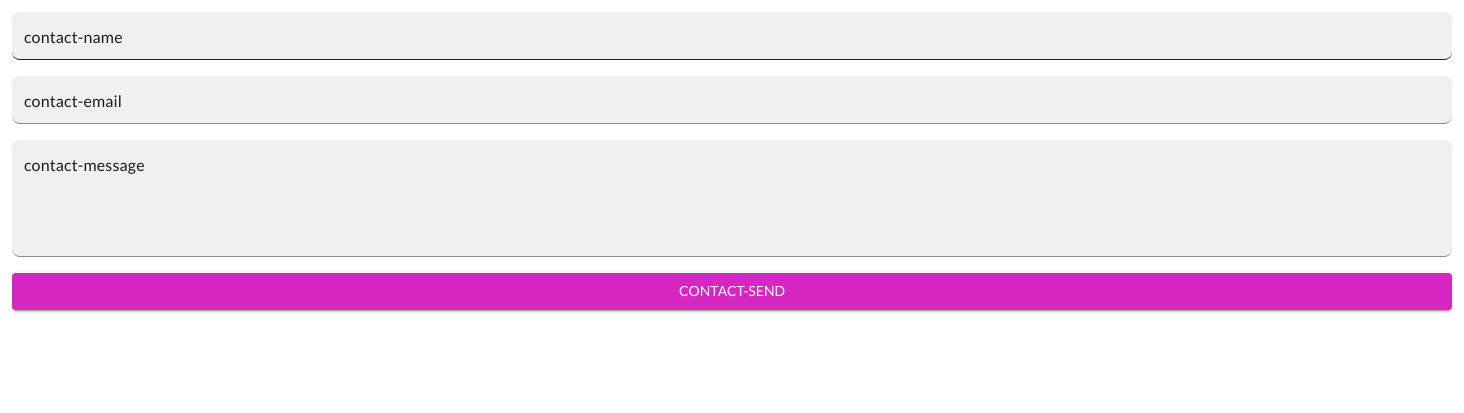
Test case: Contact Form tests › should Validate
The image size is (1464, 413).
Click the button with test id "contact-send": (732, 291) [12,273,1452,310]
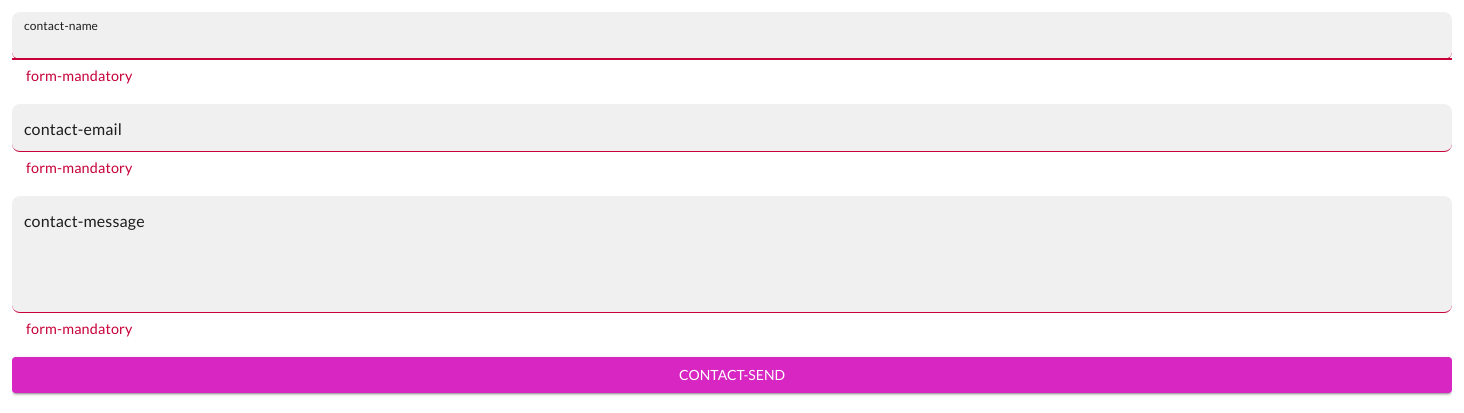
Check: the text "form-mandatory" is shown 3 times, box [26,67,133,84]; [26,159,133,176]; [26,320,133,337]
In the field with test id "contact-form-email": (732, 128) [12,104,1452,152], type "INVALID"
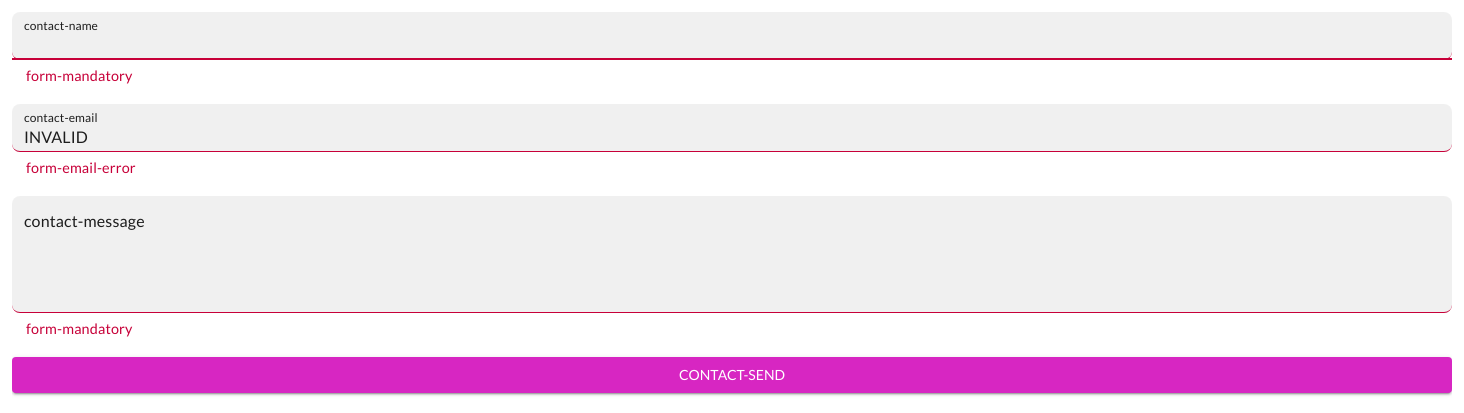
Check: the text "form-email-error" is shown, box [26,159,136,176]
